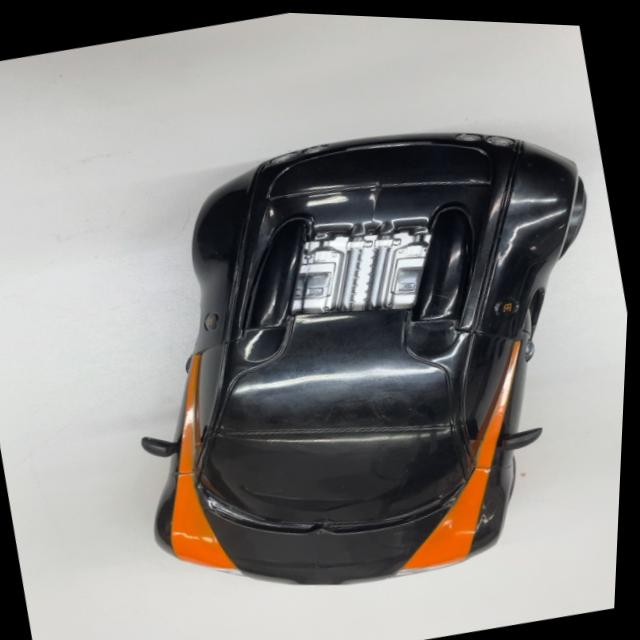vehicle_body: (67, 78, 637, 639)
